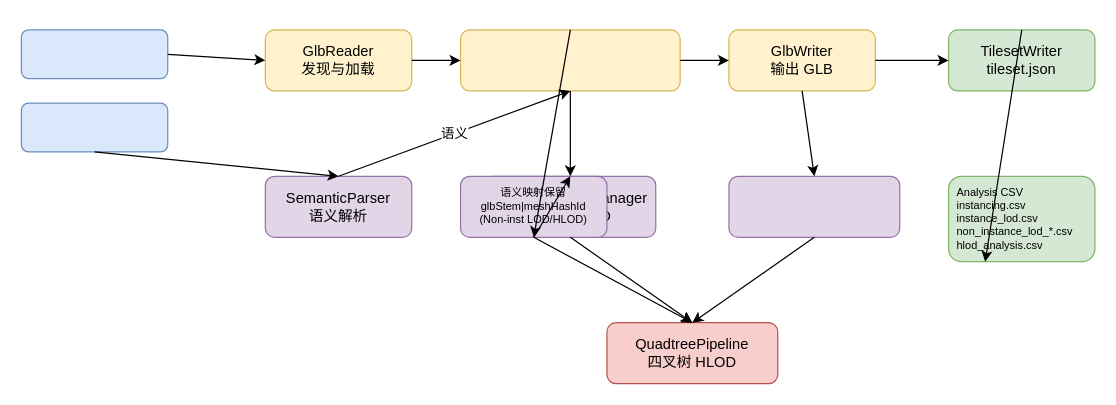
The diagram is 1116 pixels wide and 405 high, and some of its shapes have lost their labels. Here are the shapes that lost their labels. From the top down, the centre of each, then its label:
point (94, 54): GLB 文件集合
point (569, 60): SemanticMaterialGeometricDetector 语义分组 + Hausdorff 相似度
point (94, 127): 语义 XML
point (814, 206): NonInstancingLODManager 网格简化
